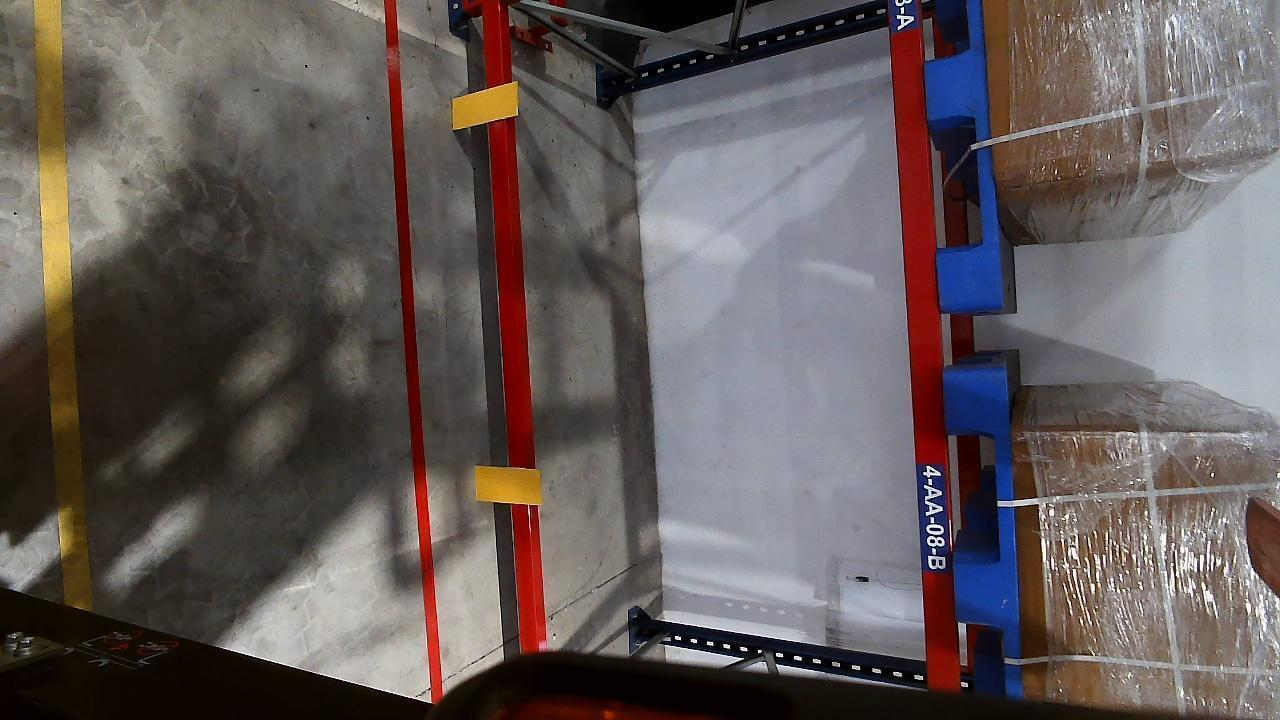red_line: (368, 0, 454, 680)
yellow_line: (29, 0, 107, 610)
